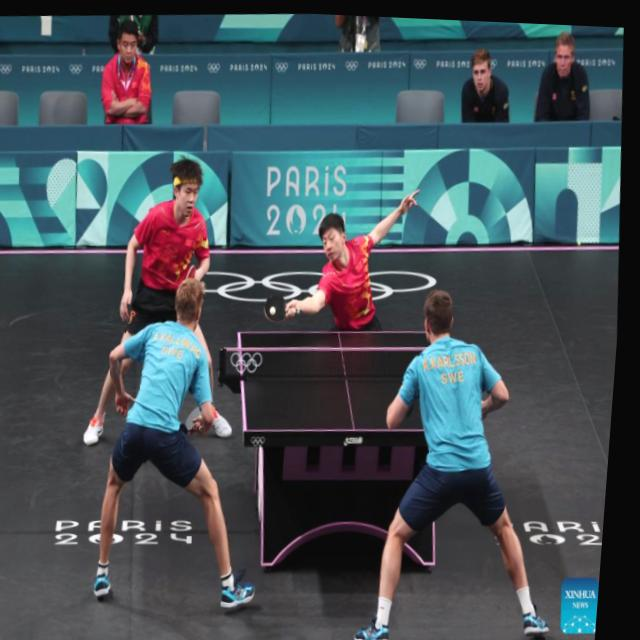TT Net: (218, 346, 451, 381)
TT Racket: (263, 295, 286, 324), (184, 403, 205, 434), (185, 264, 197, 279)
TT Table: (238, 331, 472, 433)
